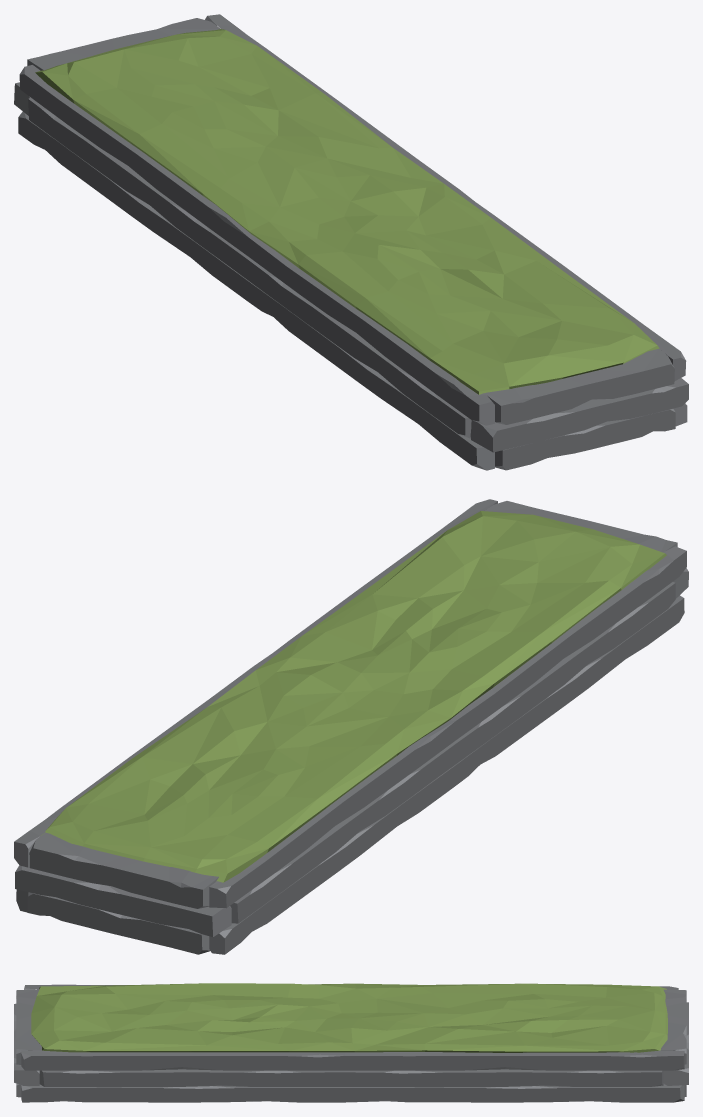
File: Gardenbox_5.gltf
3 views of the same model, one above another, from view 1: azimuth 30°, elevation 25°; view 2: azimuth 150°, elevation 25°; view 3: azimuth 270°, elevation 25° (orthographic). The views are drawn at different scales.
Parts seen in each view (by area): view 1: Gardenbox_05; view 2: Gardenbox_05; view 3: Gardenbox_05.
Part boxes in pixels (<box>): Gardenbox_05: <box>14,14,688,470</box>; Gardenbox_05: <box>14,499,688,954</box>; Gardenbox_05: <box>14,983,688,1102</box>.
Size of the model in its own units: 0.4036 by 0.1461 by 1.6.
Materials: 1 (1 with a texture image).
